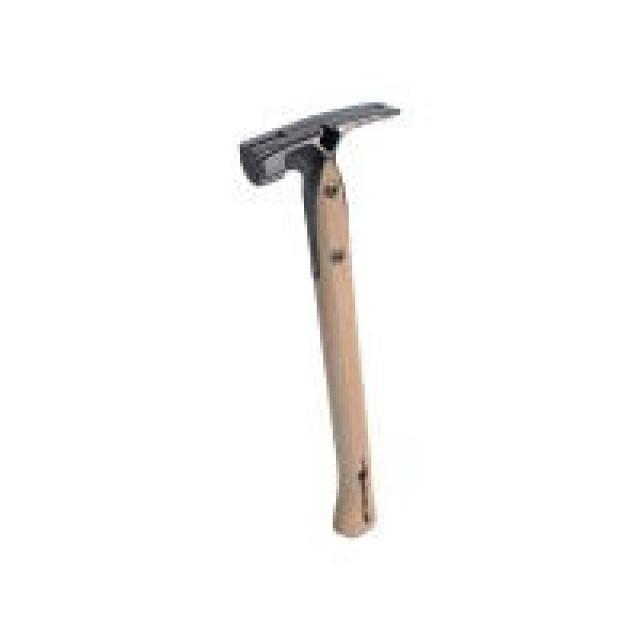hammer: (224, 85, 434, 548)
